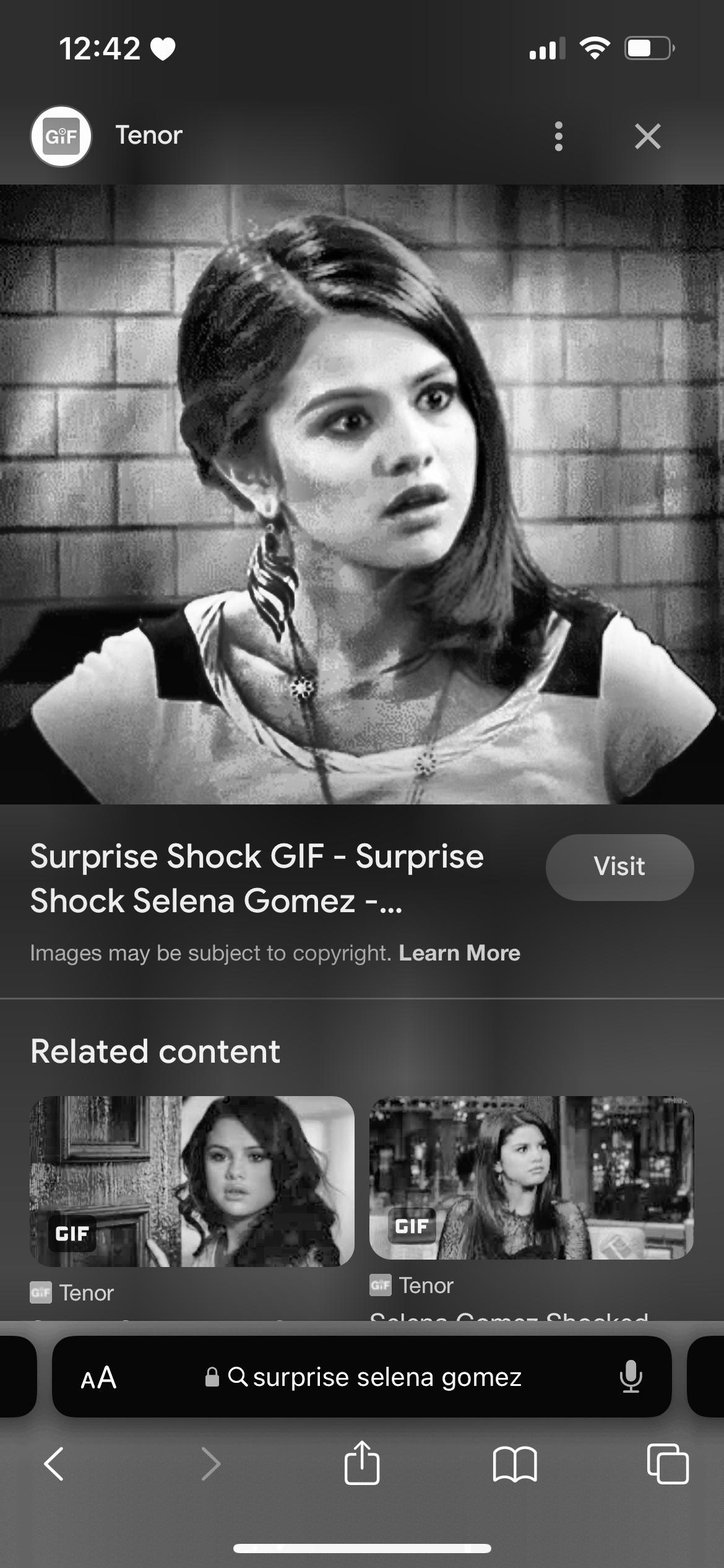surprised: (264, 268, 481, 569)
